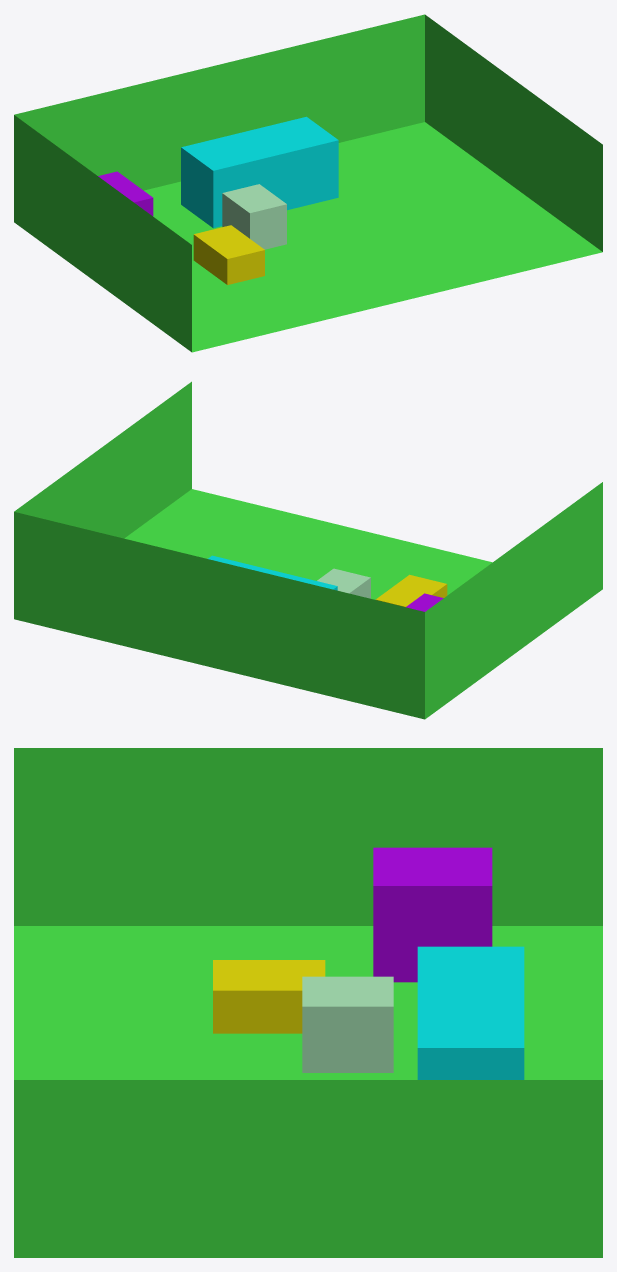
File: meshtest.fbx
The picture shows the model from 3 angles, top to bottom: view 1: azimuth 30°, elevation 25°; view 2: azimuth 150°, elevation 25°; view 3: azimuth 270°, elevation 25°; orthographic projection. The views are drawn at different scales.
Visible parts, largest first — view 1: Cube, Cube.002, Cube.004, Cube.003, Cube.001; view 2: Cube, Cube.003, Cube.004, Cube.002; view 3: Cube, Cube.002, Cube.001, Cube.004, Cube.003.
Part boxes in pixels (left/top/right/bottom): Cube: left=14, top=14, right=602, bottom=352; Cube.002: left=181, top=116, right=338, bottom=228; Cube.004: left=222, top=184, right=286, bottom=249; Cube.003: left=193, top=225, right=264, bottom=284; Cube.001: left=98, top=171, right=153, bottom=216; Cube: left=14, top=381, right=602, bottom=719; Cube.003: left=375, top=574, right=447, bottom=607; Cube.004: left=317, top=568, right=370, bottom=598; Cube.002: left=208, top=555, right=337, bottom=590; Cube: left=14, top=748, right=602, bottom=1257; Cube.002: left=417, top=946, right=524, bottom=1079; Cube.001: left=373, top=847, right=492, bottom=982; Cube.004: left=302, top=976, right=393, bottom=1072; Cube.003: left=213, top=960, right=325, bottom=1033.
Size of the model in its own units: 4000 by 1000 by 3000.
